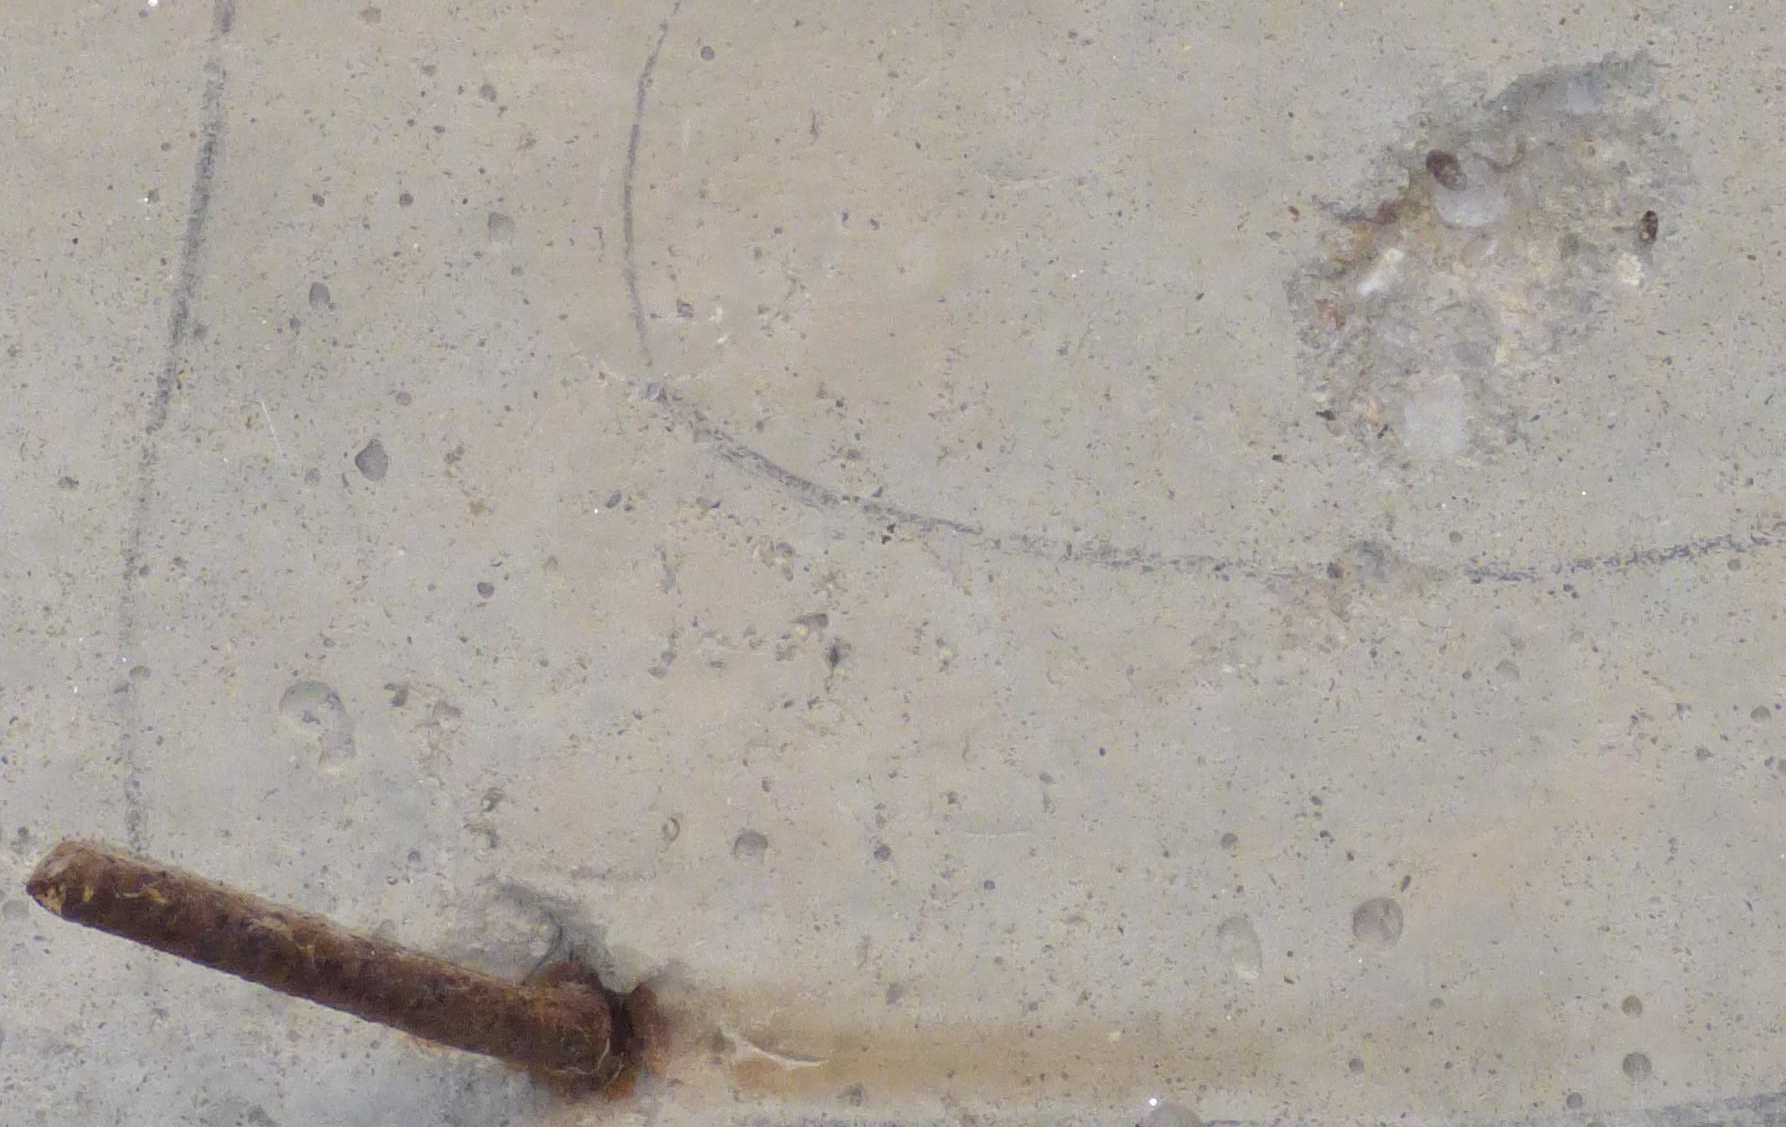Exposed reinforcement: (25, 839, 613, 1078)
Spalling: (1285, 48, 1693, 486)
